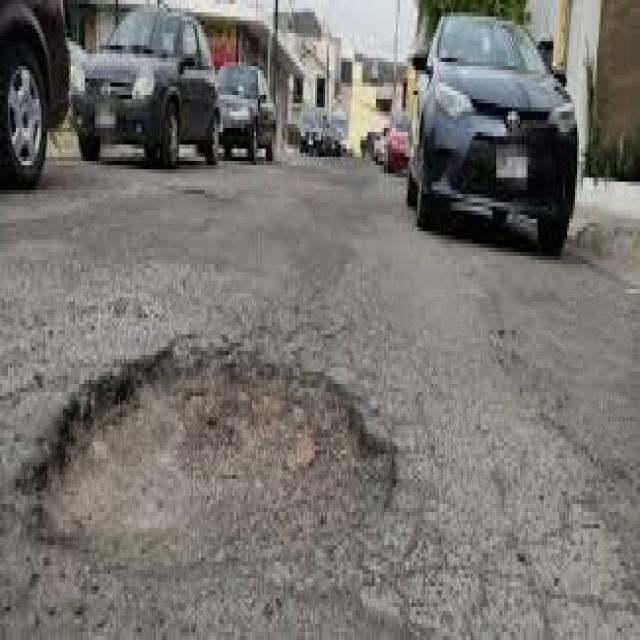Pothole: (2, 285, 423, 611)
